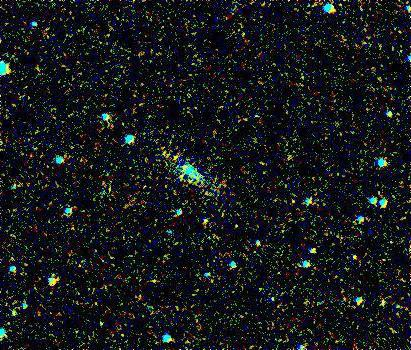star: (225, 211, 255, 241)
